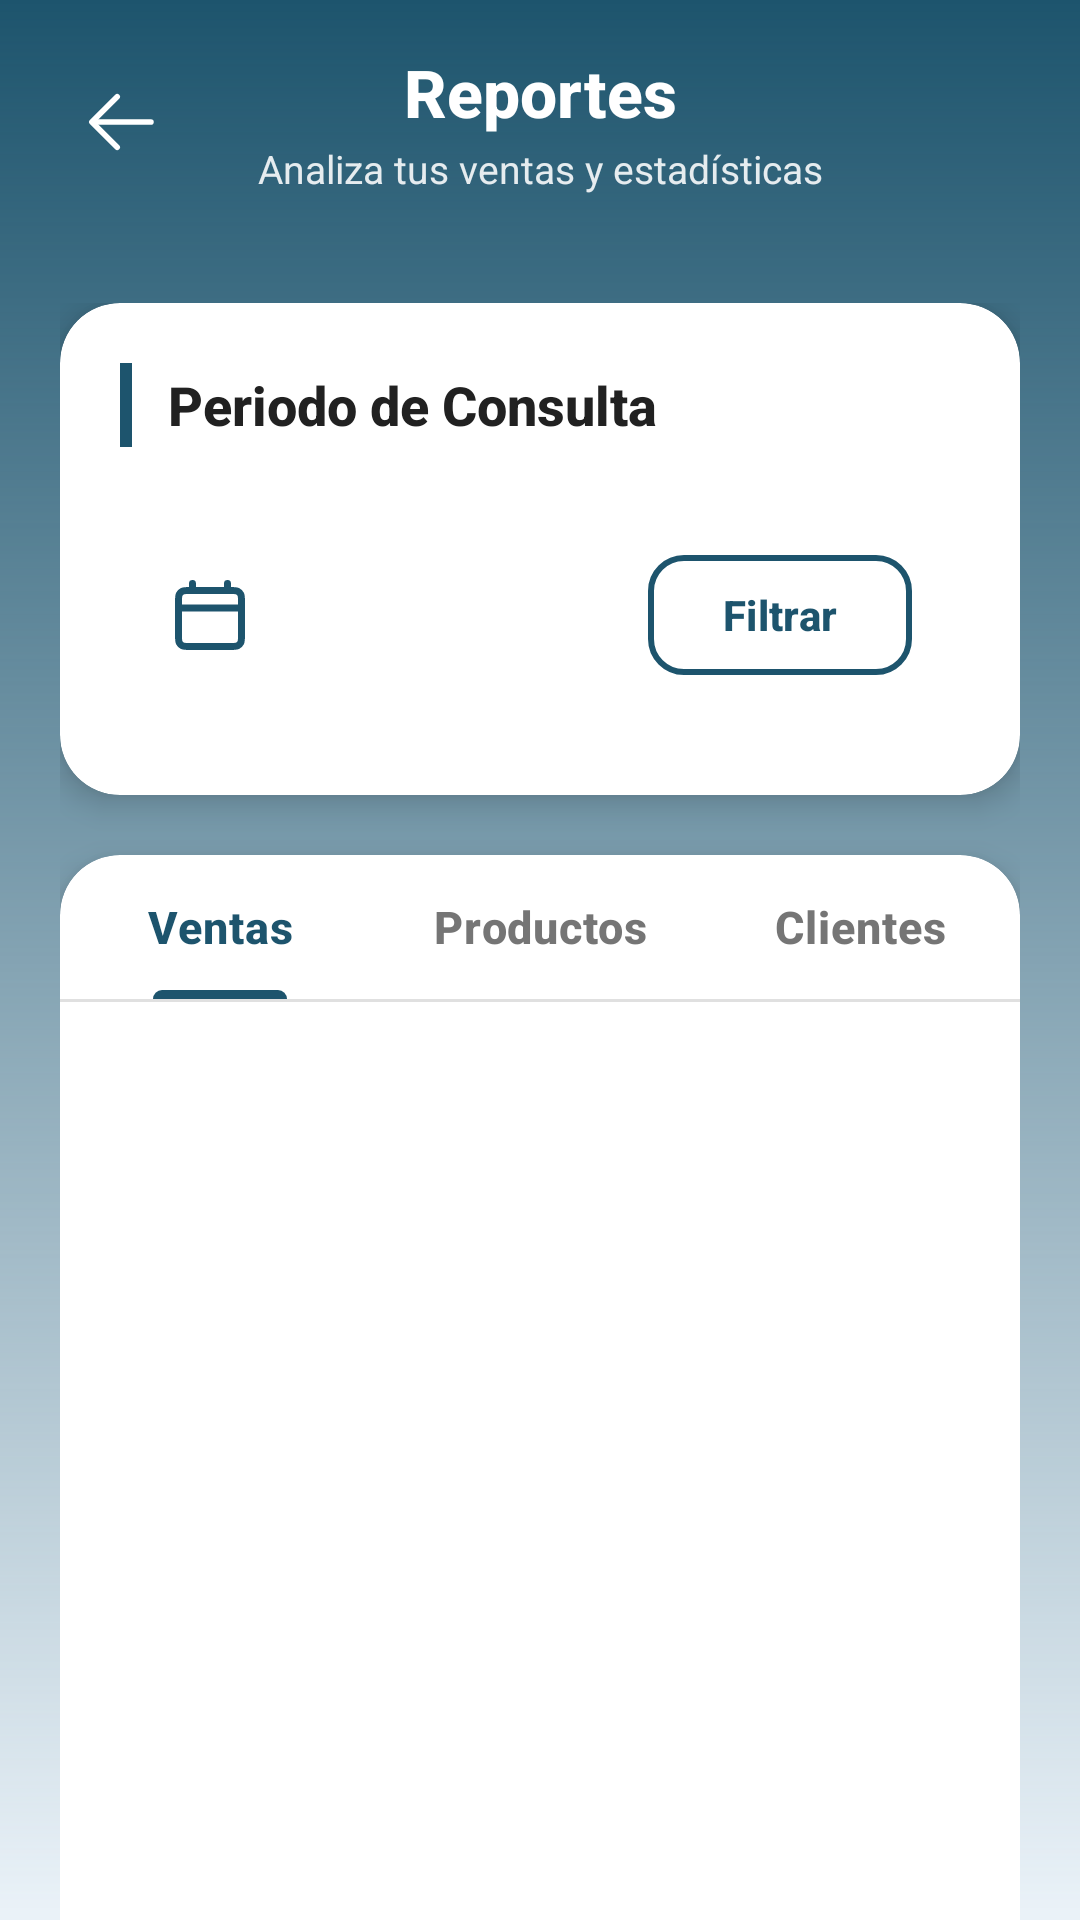

Screen size 1080px x 1920px. Icon name, then its center in pixels as [x,y]:
calendar: [210,615]
Volver: [121,122]
